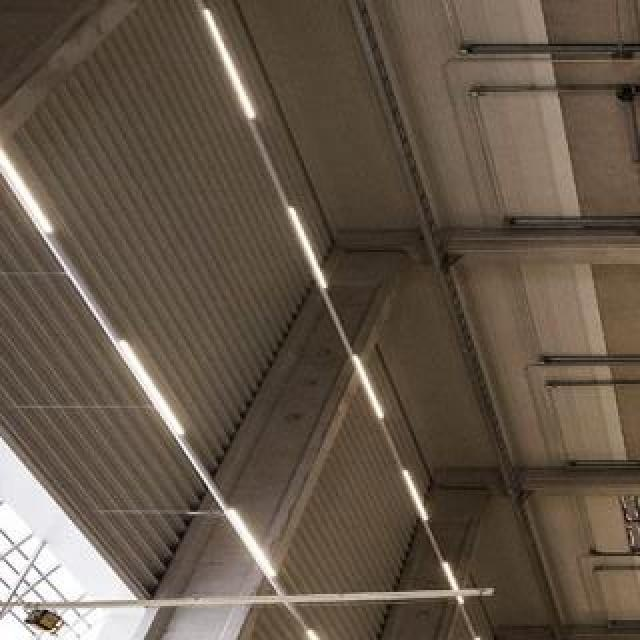fluorescent tube: (113, 339, 202, 443), (193, 6, 267, 121), (0, 153, 66, 238), (218, 504, 285, 578), (281, 205, 339, 290), (342, 349, 393, 419), (398, 469, 434, 527), (435, 558, 470, 608), (298, 626, 350, 640), (472, 634, 498, 640)
